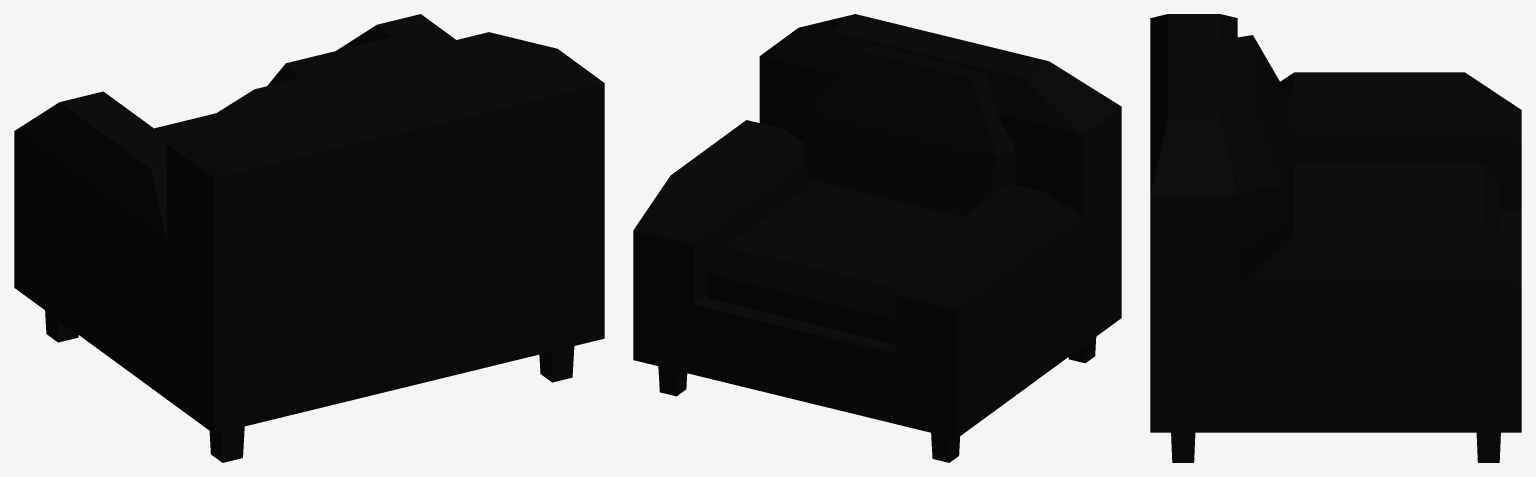
File: SM_armchair_red.fbx
The picture shows the model from 3 angles, left to right: view 1: azimuth 30°, elevation 25°; view 2: azimuth 150°, elevation 25°; view 3: azimuth 270°, elevation 25°; orthographic projection. The views are drawn at different scales.
Parts seen in each view (by area): view 1: armchair_red; view 2: armchair_red; view 3: armchair_red.
Boxes of the visible parts, x1,y1,x2,y2 form: armchair_red: (14, 14, 604, 462); armchair_red: (633, 14, 1121, 462); armchair_red: (1150, 14, 1521, 462).
Bounding box in the file's own units: 0.96 × 0.8029 × 0.85.
